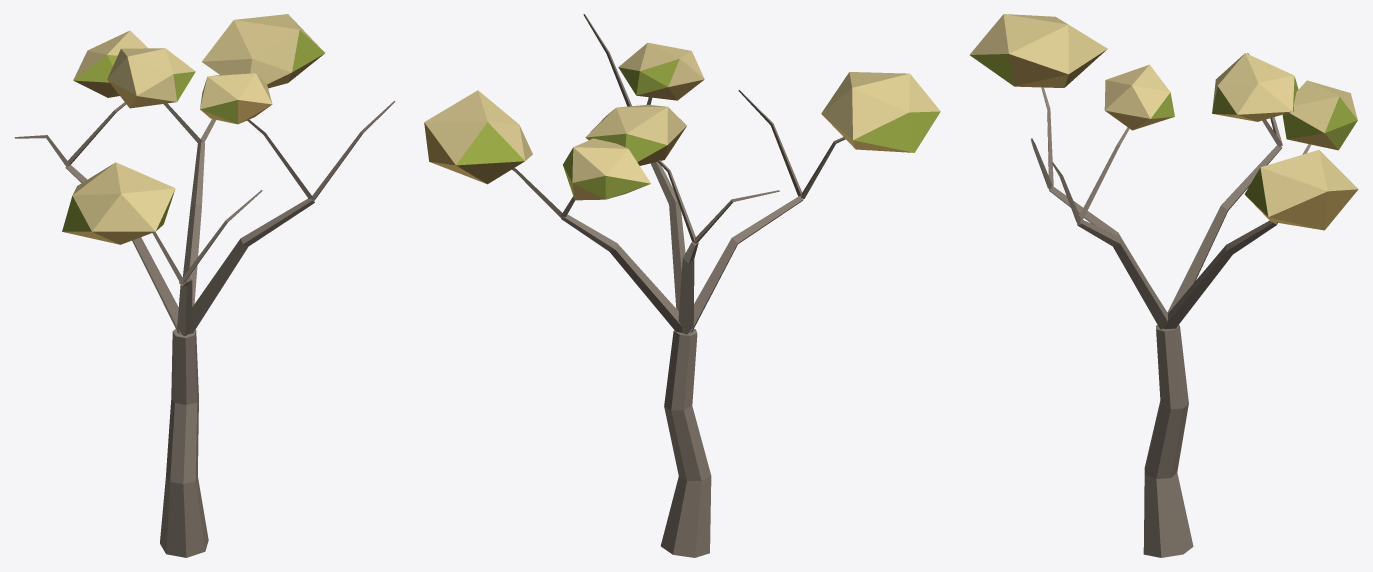
Rendered from T15_DrySeasonSparseTree.glb.
The picture shows the model from 3 angles, left to right: view 1: azimuth 30°, elevation 25°; view 2: azimuth 150°, elevation 25°; view 3: azimuth 270°, elevation 25°; orthographic projection. The views are drawn at different scales.
Visible parts, largest first — view 1: T15_DrySeasonSparseTree; view 2: T15_DrySeasonSparseTree; view 3: T15_DrySeasonSparseTree.
Boxes of the visible parts, x1=… form: T15_DrySeasonSparseTree: x1=14, y1=14, x2=395, y2=557; T15_DrySeasonSparseTree: x1=424, y1=14, x2=940, y2=557; T15_DrySeasonSparseTree: x1=969, y1=14, x2=1358, y2=557.
Size of the model in its own units: 4.5 by 5.61 by 4.
